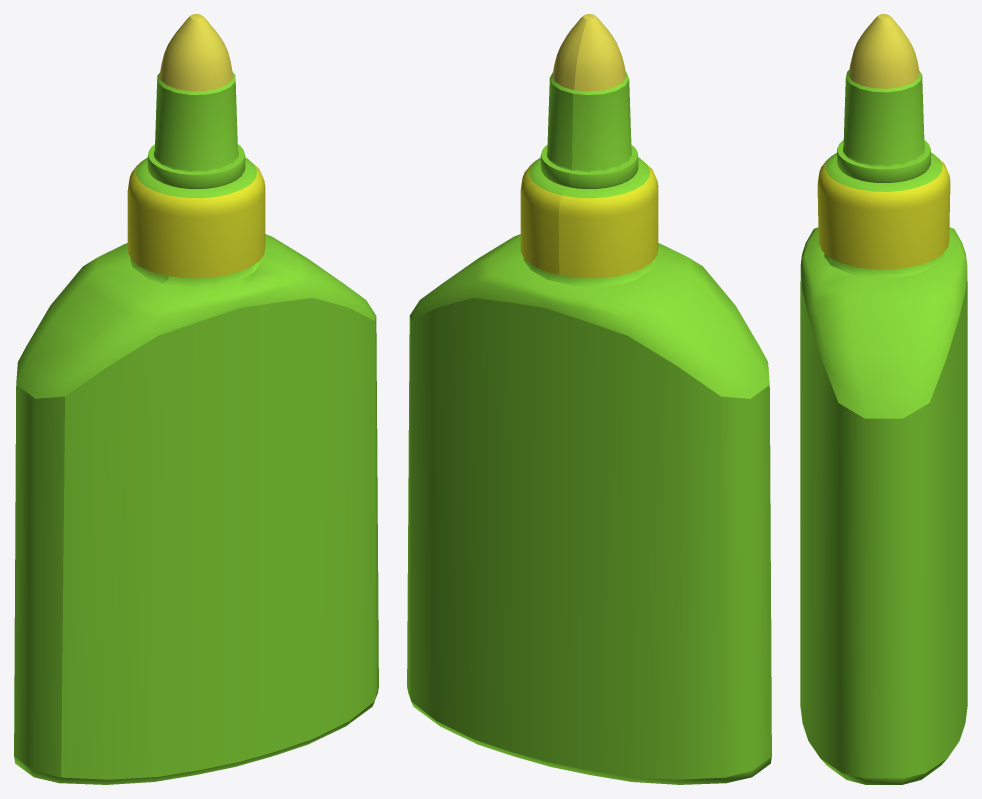
Rendered from glue_green.fbx.
3 renders of one model, left to right at view 1: azimuth 30°, elevation 25°; view 2: azimuth 150°, elevation 25°; view 3: azimuth 270°, elevation 25°, orthographic. The views are drawn at different scales.
Visible parts, largest first — view 1: glue; view 2: glue; view 3: glue.
Part boxes in pixels (bbox=[...]): glue: bbox=[14, 14, 378, 784]; glue: bbox=[407, 14, 771, 784]; glue: bbox=[800, 14, 967, 784].
Size of the model in its own units: 686 by 1381 by 299.
